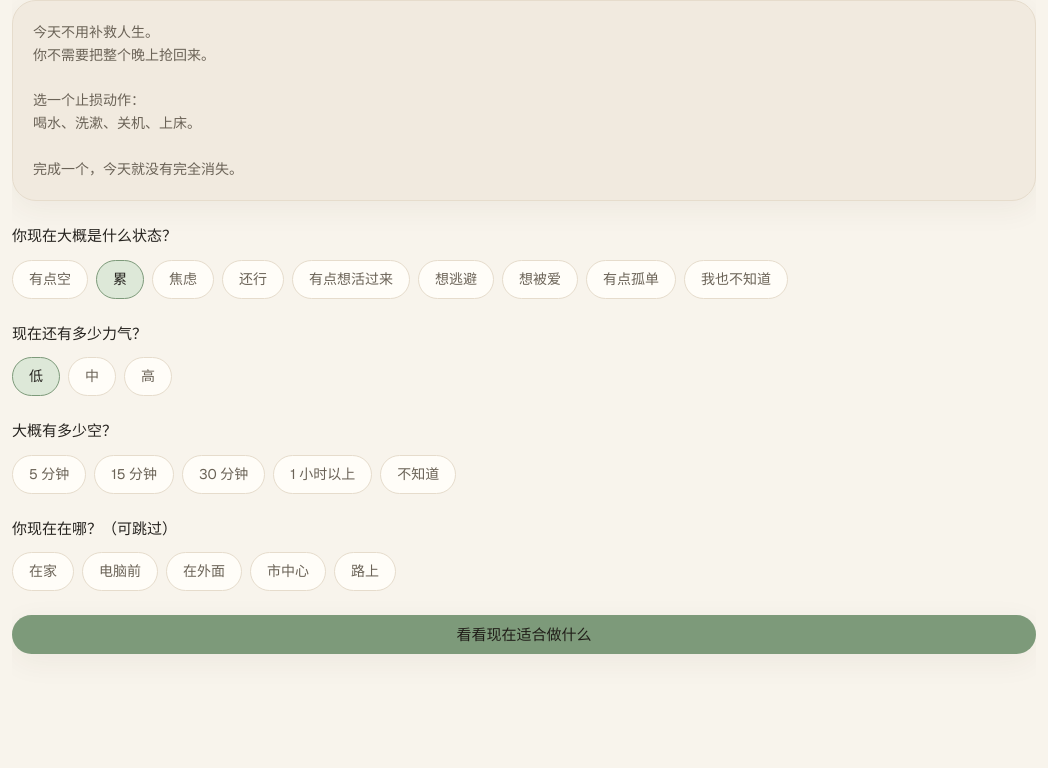
Test: Now flow (integration) — the core loop end to end › pre-selects the remembered mood/energy on mount
Note: ready immediately → can find without re-picking
What coordinates should you click on to do the following:
click the button "看看现在适合做什么"
I would click on:
 (524, 635)
Its box is [12, 615, 1036, 654].
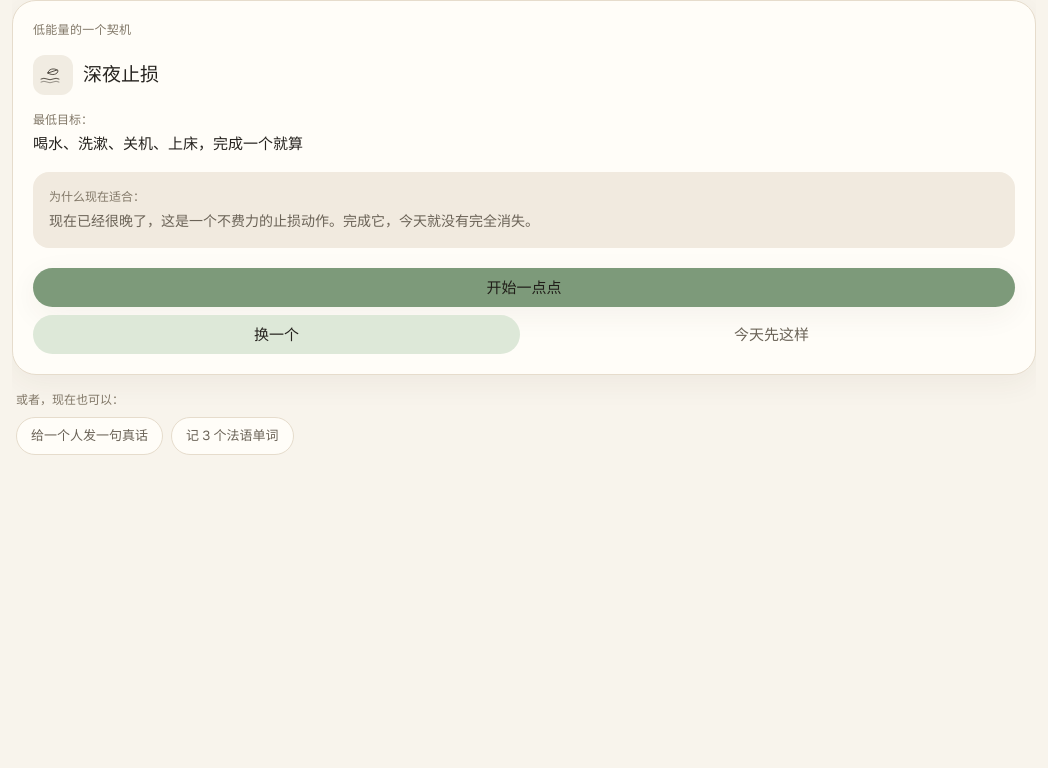
Expected: the button "开始一点点" is shown, [33, 268, 1015, 307]
